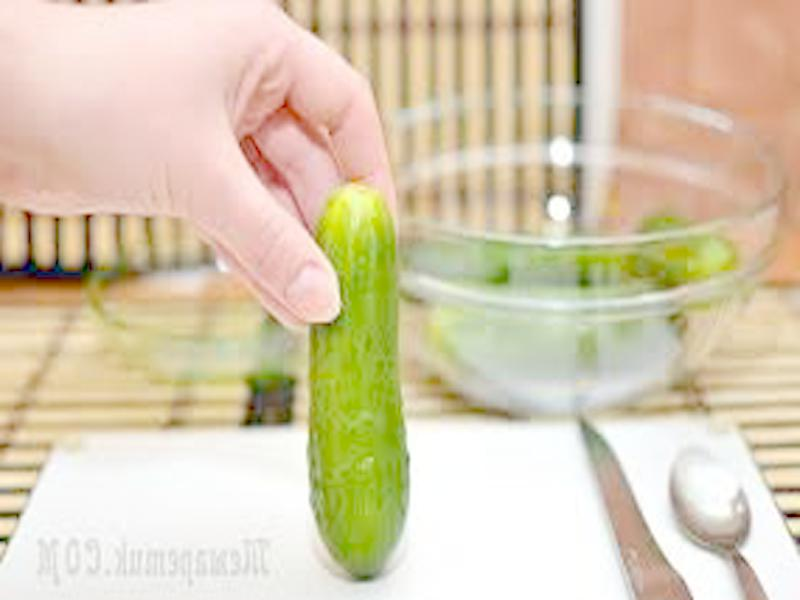Cucumber: (308, 183, 409, 576)
